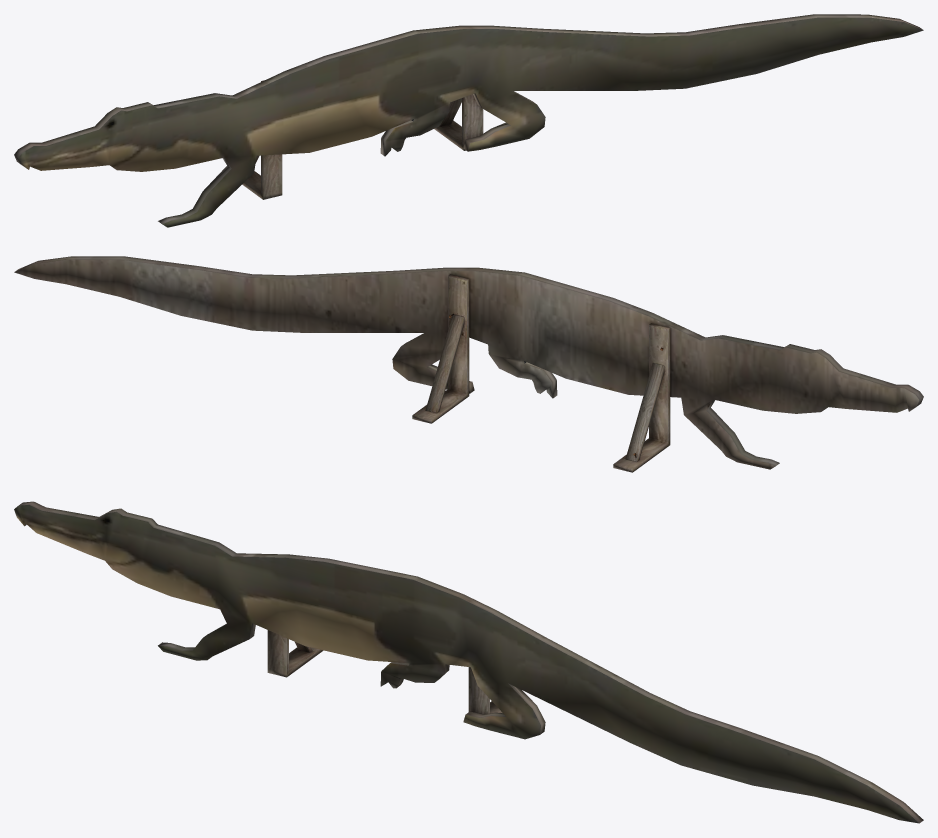
The picture shows the model from 3 angles, top to bottom: view 1: azimuth 30°, elevation 25°; view 2: azimuth 150°, elevation 25°; view 3: azimuth 330°, elevation 25°; orthographic projection.
Visible parts, largest first — view 1: body0_model0_lod0_mesh0; view 2: body0_model0_lod0_mesh0; view 3: body0_model0_lod0_mesh0.
Part boxes in pixels (x1,y1,x2,y2): body0_model0_lod0_mesh0: (14, 14, 923, 227); body0_model0_lod0_mesh0: (14, 256, 923, 472); body0_model0_lod0_mesh0: (14, 501, 923, 823).
Bounding box in the file's own units: 236 × 33.31 × 19.02.
1 material, 1 textured.
